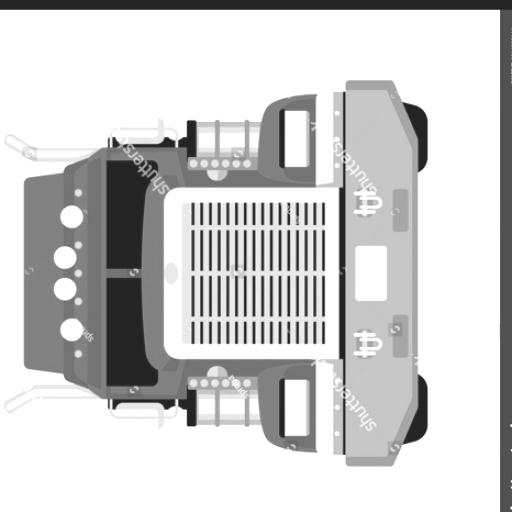truck: (0, 76, 438, 471)
